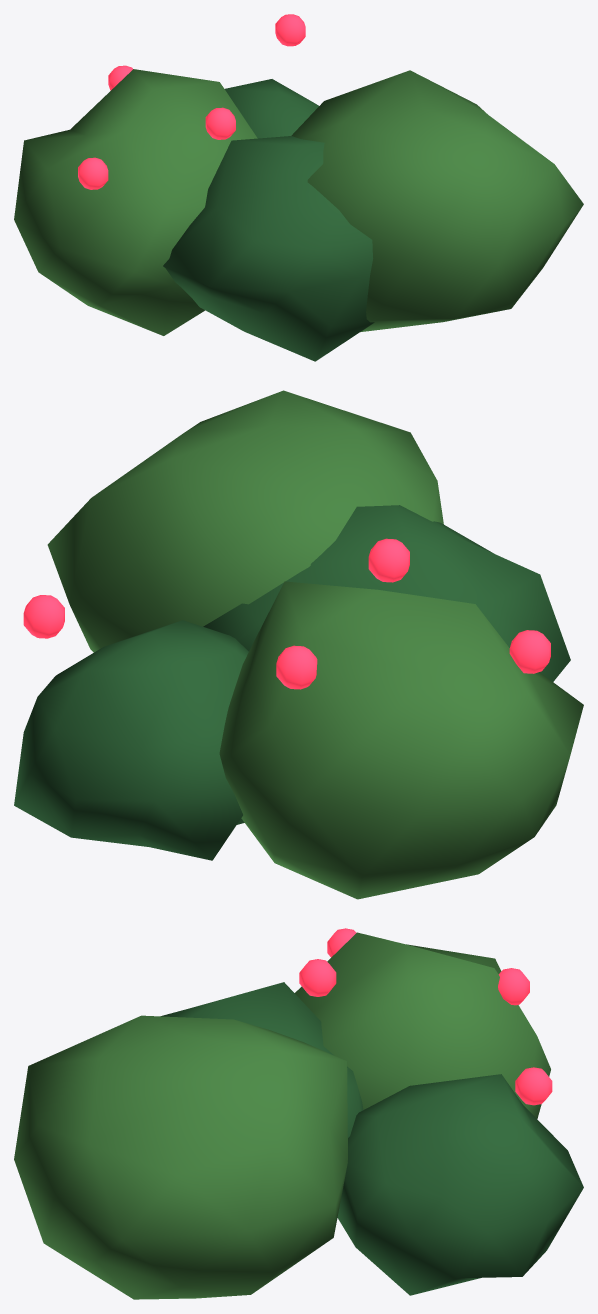
The model's file is bush_a.glb.
3 renders of one model, top to bottom at view 1: azimuth 30°, elevation 25°; view 2: azimuth 150°, elevation 25°; view 3: azimuth 270°, elevation 25°, orthographic. The views are drawn at different scales.
Parts seen in each view (by area): view 1: bush_a; view 2: bush_a; view 3: bush_a.
Boxes of the visible parts, box(x1,y1,x2,y2) form: bush_a: box(14, 14, 583, 361); bush_a: box(14, 390, 583, 899); bush_a: box(14, 928, 583, 1299).
Bounding box in the file's own units: 1.81 × 0.8787 × 1.76.
